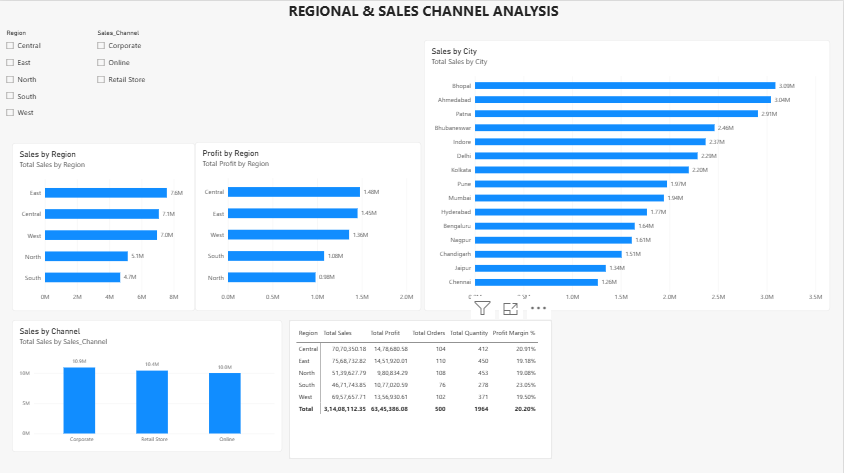

This screenshot's page, from the dashboard's own definition file:
{"tool":"powerbi","page":{"name":"Regional Analysis","canvas":[1920,1080],"ordinal":2},"visuals":[{"type":"textbox","box":[9.1,0,1911.4,163.6],"z":0},{"type":"slicer","fields":{"Values":["PowerBI_Retail_Sales_Dataset.Region"]},"box":[9.1,63.6,338.6,234.1],"z":1},{"type":"slicer","fields":{"Values":["PowerBI_Retail_Sales_Dataset.Sales_Channel"]},"box":[215.9,63.6,229.5,163.6],"z":2},{"type":"clusteredBarChart","title":"Sales by Region","fields":{"Category":["PowerBI_Retail_Sales_Dataset.Region"],"Y":["PowerBI_Retail_Sales_Dataset.Total Sales"]},"box":[29.5,322.7,372.7,286.4],"z":3},{"type":"clusteredBarChart","title":"Profit by Region","fields":{"Category":["PowerBI_Retail_Sales_Dataset.Region"],"Y":["PowerBI_Retail_Sales_Dataset.Total Profit"]},"box":[445.5,320.5,373,286],"z":4},{"type":"clusteredBarChart","title":"Sales by City","fields":{"Category":["PowerBI_Retail_Sales_Dataset.City"],"Y":["PowerBI_Retail_Sales_Dataset.Total Sales"]},"box":[861.4,145.5,506.8,463.6],"z":5},{"type":"clusteredColumnChart","title":"Sales by Channel","fields":{"Category":["PowerBI_Retail_Sales_Dataset.Sales_Channel"],"Y":["PowerBI_Retail_Sales_Dataset.Total Sales"]},"box":[25,652.3,381.8,300],"z":8},{"type":"pivotTable","fields":{"Rows":["PowerBI_Retail_Sales_Dataset.Region"],"Values":["PowerBI_Retail_Sales_Dataset.Total Sales","PowerBI_Retail_Sales_Dataset.Total Profit","PowerBI_Retail_Sales_Dataset.Total Orders","PowerBI_Retail_Sales_Dataset.Total Quantity","PowerBI_Retail_Sales_Dataset.Profit Margin %"]},"box":[445.5,725,627.3,315.9],"z":9}]}

Visuals, with their boxes in screenshot pixels (x1, y1, x2, y2), scaled from the page's 1920x1080 canvas onto the 844x473 screenshot:
textbox: locate(4, 0, 843, 72)
slicer - PowerBI_Retail_Sales_Dataset.Region: locate(4, 28, 153, 130)
slicer - PowerBI_Retail_Sales_Dataset.Sales_Channel: locate(95, 28, 196, 100)
"Sales by Region" clusteredBarChart: locate(13, 141, 177, 267)
"Profit by Region" clusteredBarChart: locate(196, 140, 360, 266)
"Sales by City" clusteredBarChart: locate(379, 64, 601, 267)
"Sales by Channel" clusteredColumnChart: locate(11, 286, 179, 417)
pivotTable - PowerBI_Retail_Sales_Dataset.Region x PowerBI_Retail_Sales_Dataset.Total Sales: locate(196, 318, 472, 456)
